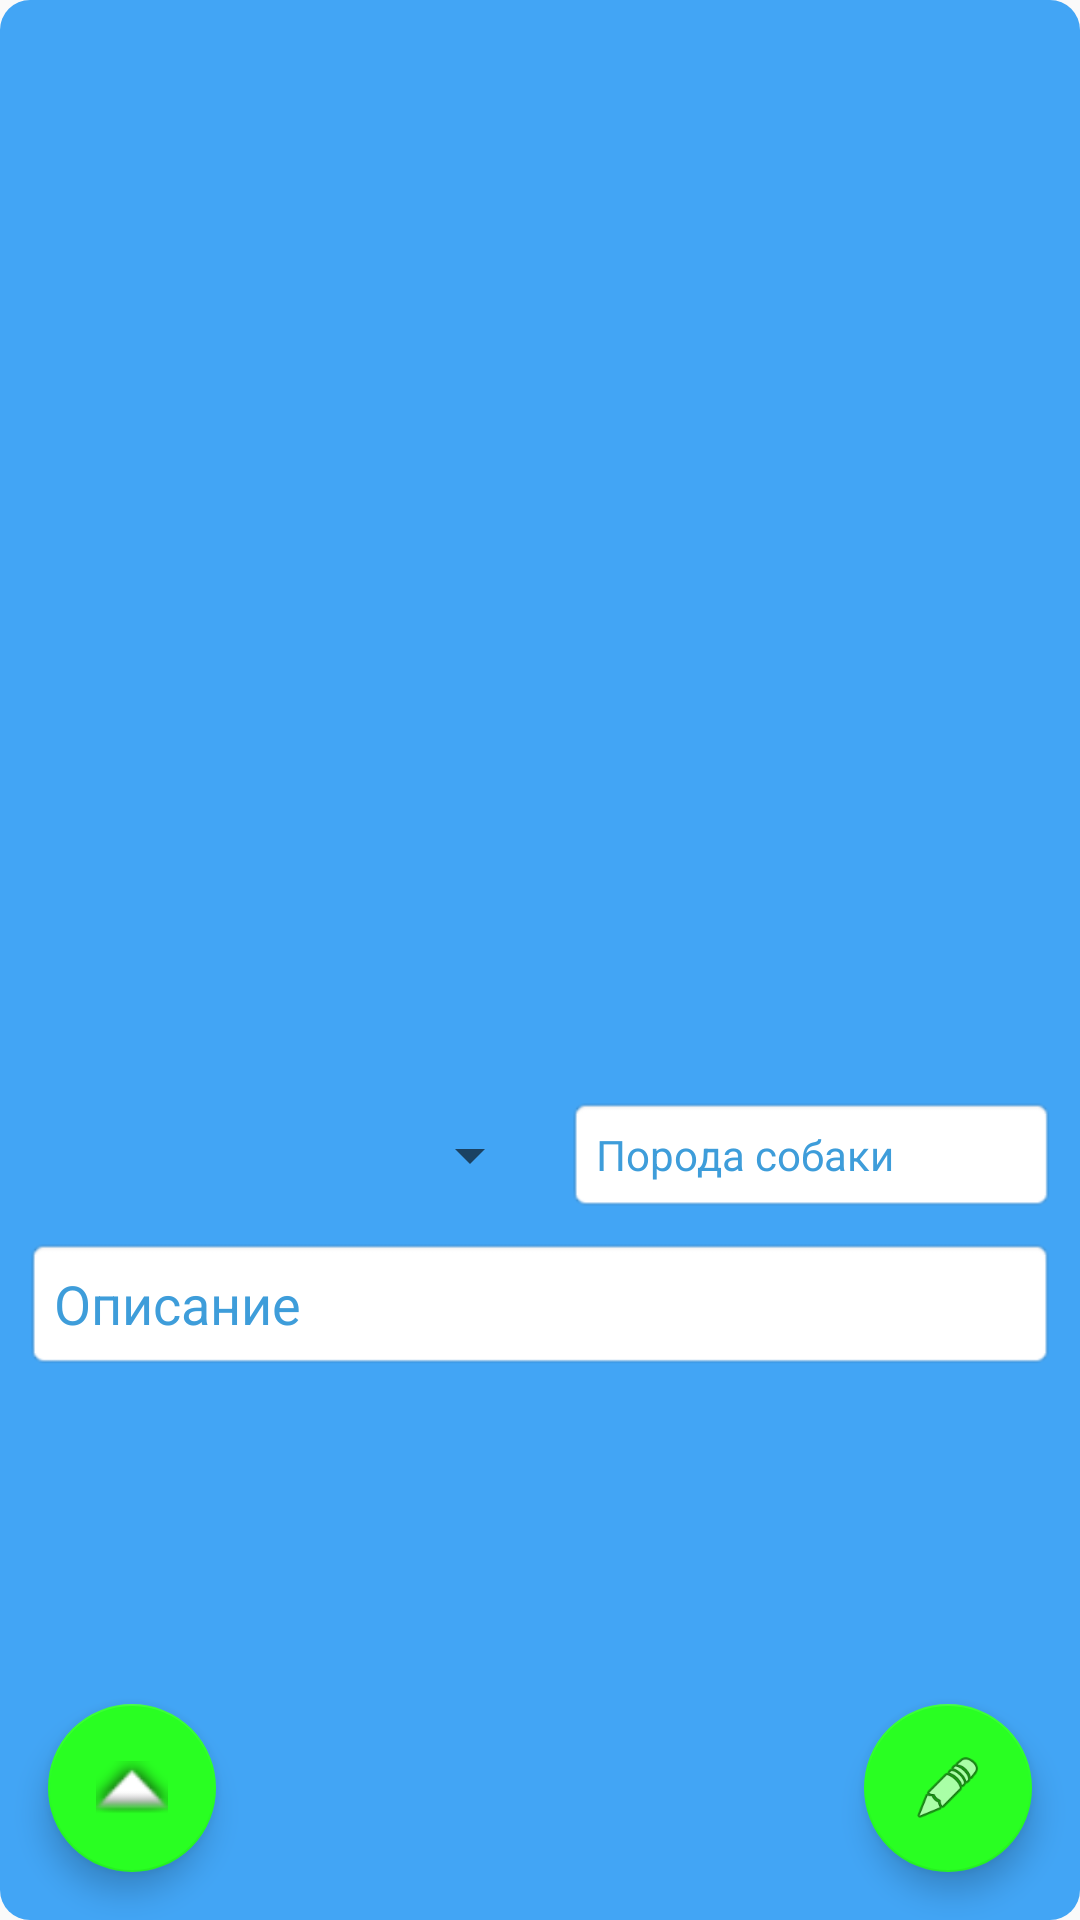

Named icons in this screenshot (1080 × 1920) and their centers, [x,y]:
arrow up float: [132,1788]
edit: [948,1788]
